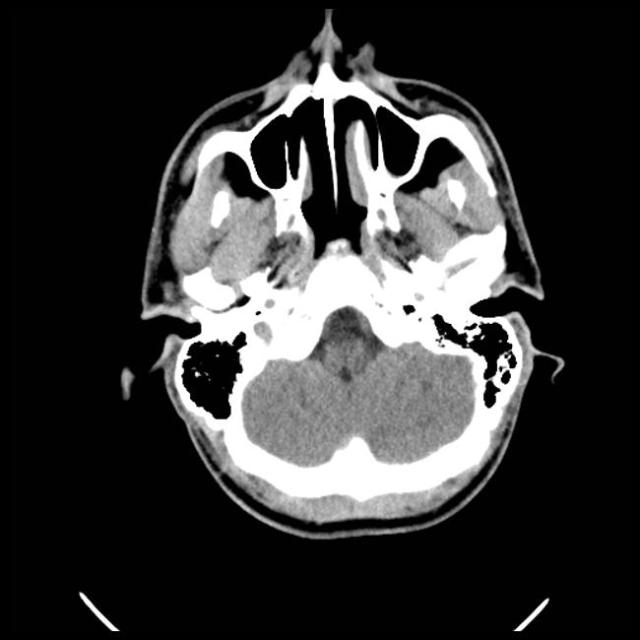lesion: (124, 10, 564, 541)
